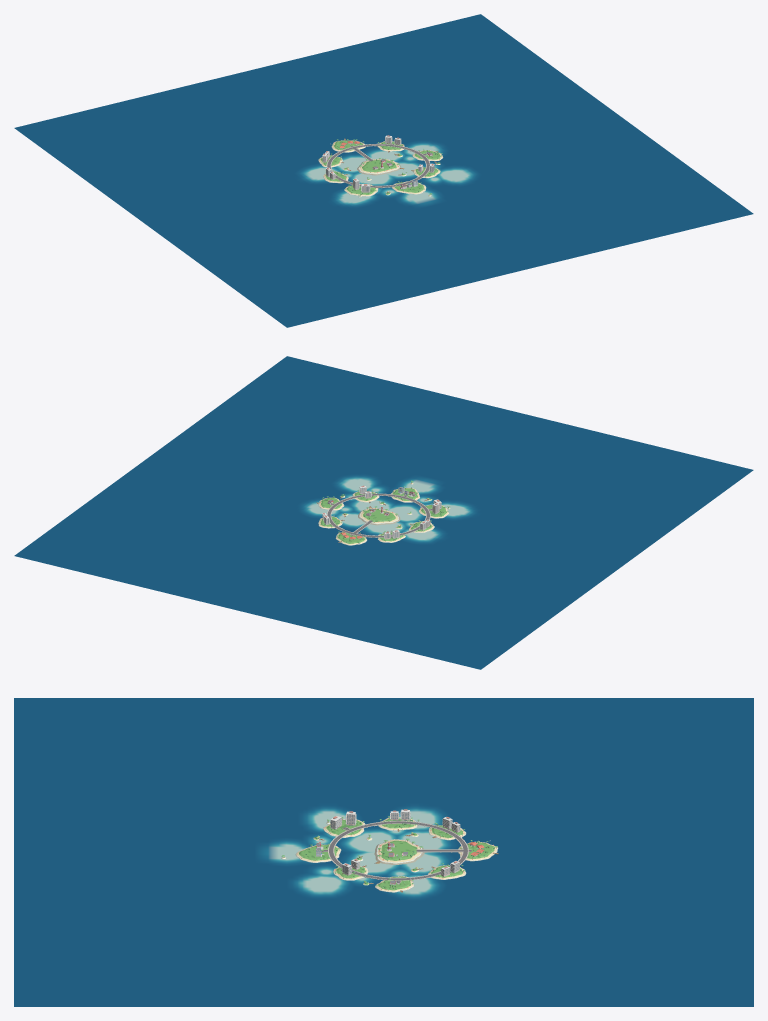
The model's file is islas_ciudad.glb.
The picture shows the model from 3 angles, top to bottom: view 1: azimuth 30°, elevation 25°; view 2: azimuth 150°, elevation 25°; view 3: azimuth 270°, elevation 25°; orthographic projection. The views are drawn at different scales.
Parts seen in each view (by area): view 1: Oceano, Anillo_Calzada; view 2: Oceano, Anillo_Calzada; view 3: Oceano, Anillo_Calzada, I_Faro.
Part boxes in pixels (x1,y1,x2,y2): Oceano: (14,14,753,327); Anillo_Calzada: (326,143,429,187); Oceano: (14,356,753,669); Anillo_Calzada: (326,493,430,537); Oceano: (14,698,753,1006); Anillo_Calzada: (328,821,468,880); I_Faro: (374,839,424,865).
Bounding box in the file's own units: 1520 × 38.23 × 1540.
